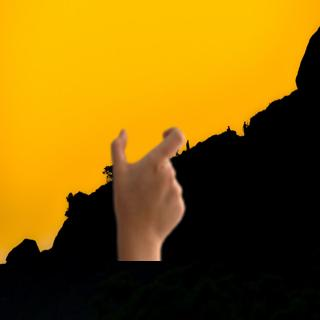Irritated: (102, 125, 187, 257)
